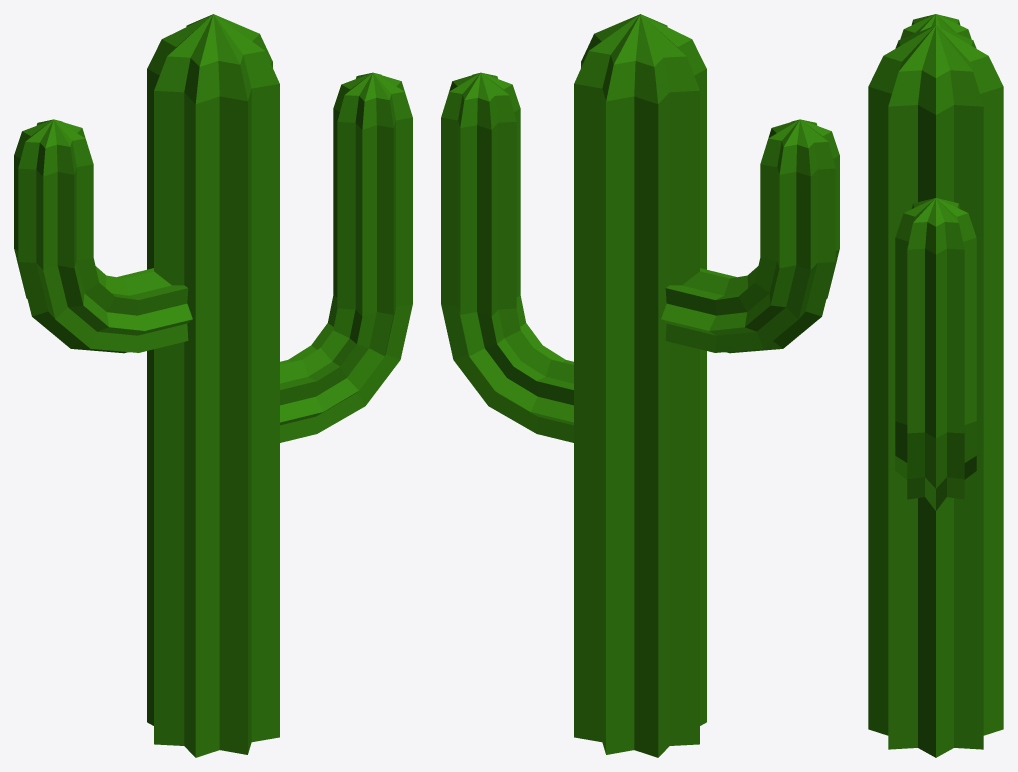
Rendered from Cactus_01.fbx.
The picture shows the model from 3 angles, left to right: view 1: azimuth 30°, elevation 25°; view 2: azimuth 150°, elevation 25°; view 3: azimuth 270°, elevation 25°; orthographic projection.
Parts seen in each view (by area): view 1: Cactus_01; view 2: Cactus_01; view 3: Cactus_01.
Part boxes in pixels (<box>): Cactus_01: <box>14,14,412,757</box>; Cactus_01: <box>441,14,839,757</box>; Cactus_01: <box>868,14,1003,757</box>.
Size of the model in its own units: 131 by 230 by 40.
Materials: 1 (1 with a texture image).
